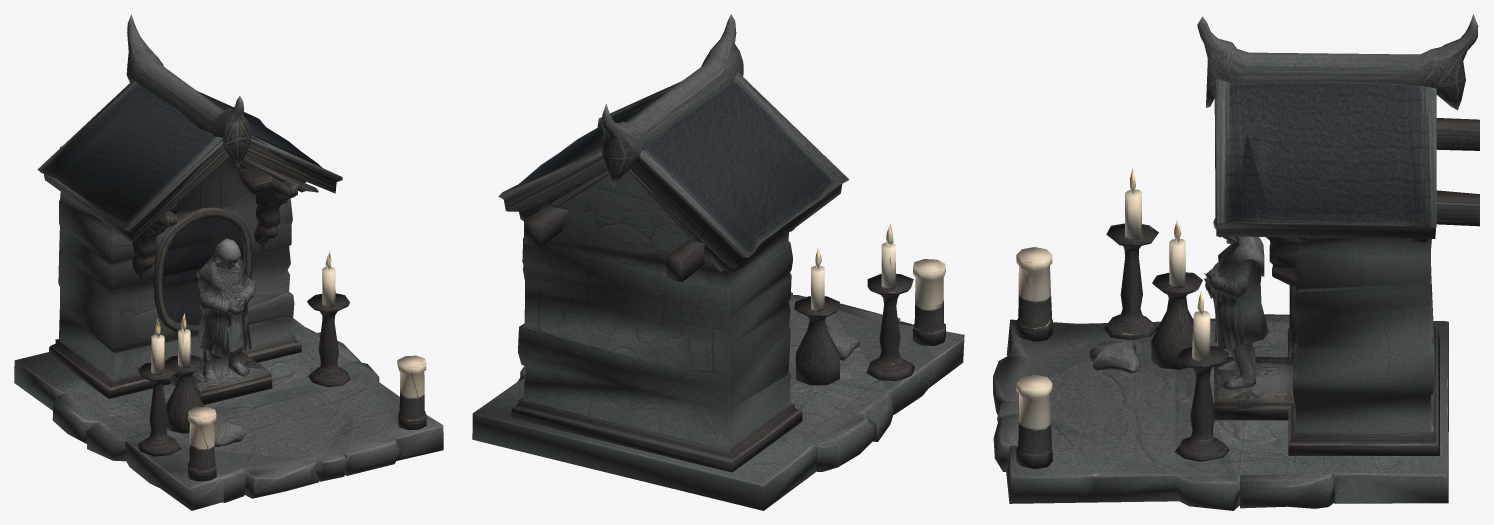
Rendered from shrine.glb.
3 views of the same model, side by side, from view 1: azimuth 30°, elevation 25°; view 2: azimuth 150°, elevation 25°; view 3: azimuth 270°, elevation 25° (orthographic). The views are drawn at different scales.
Size of the model in its own units: 0.7998 by 0.896 by 0.9575.
Materials: 1 (1 with a texture image).
